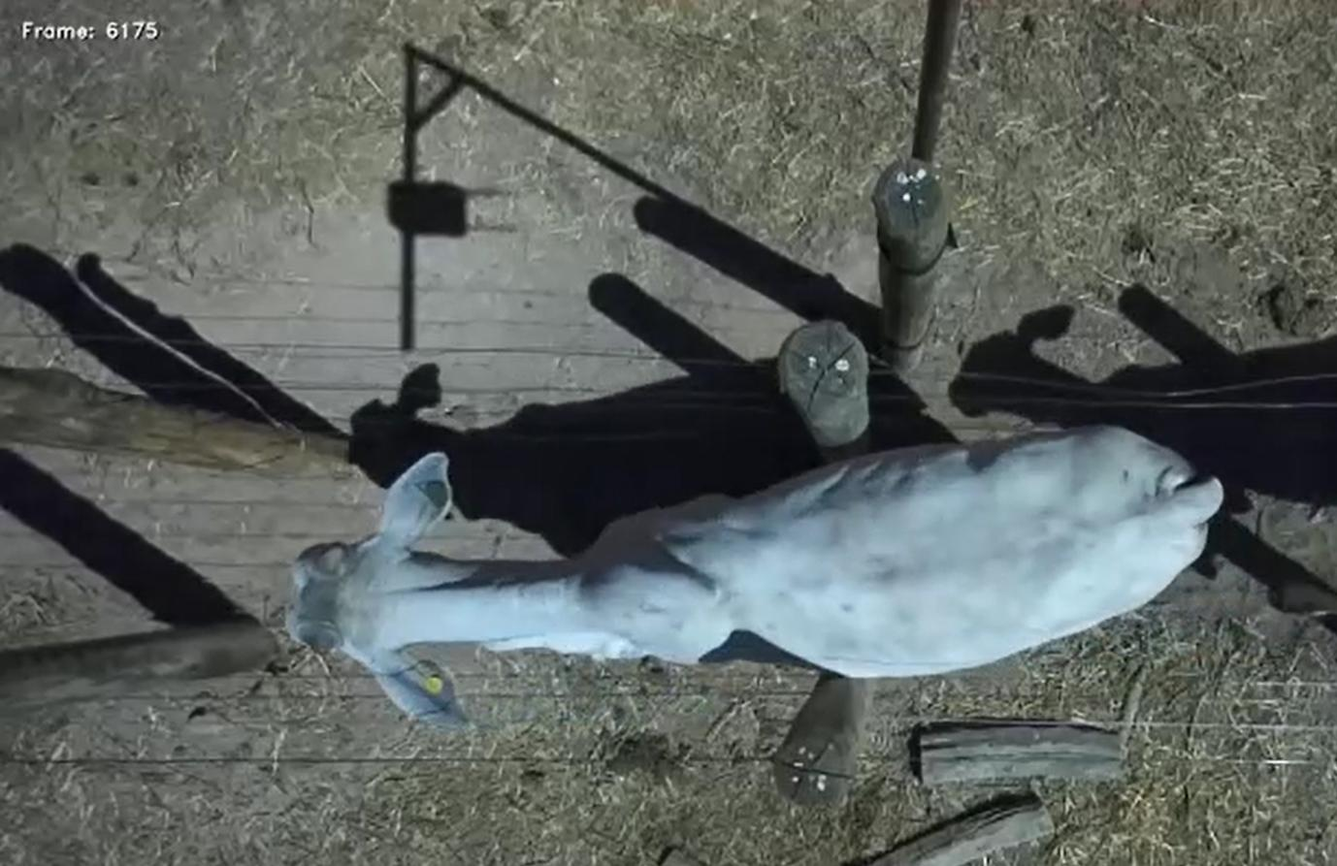cattle: (278, 408, 1251, 731)
